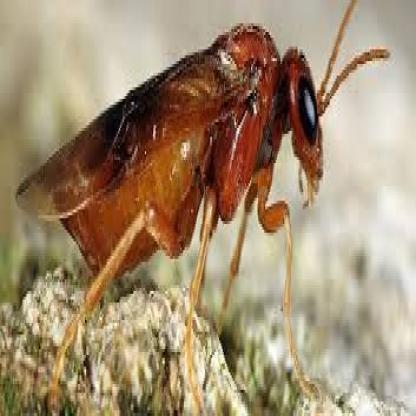sawfly: (15, 0, 393, 416)
